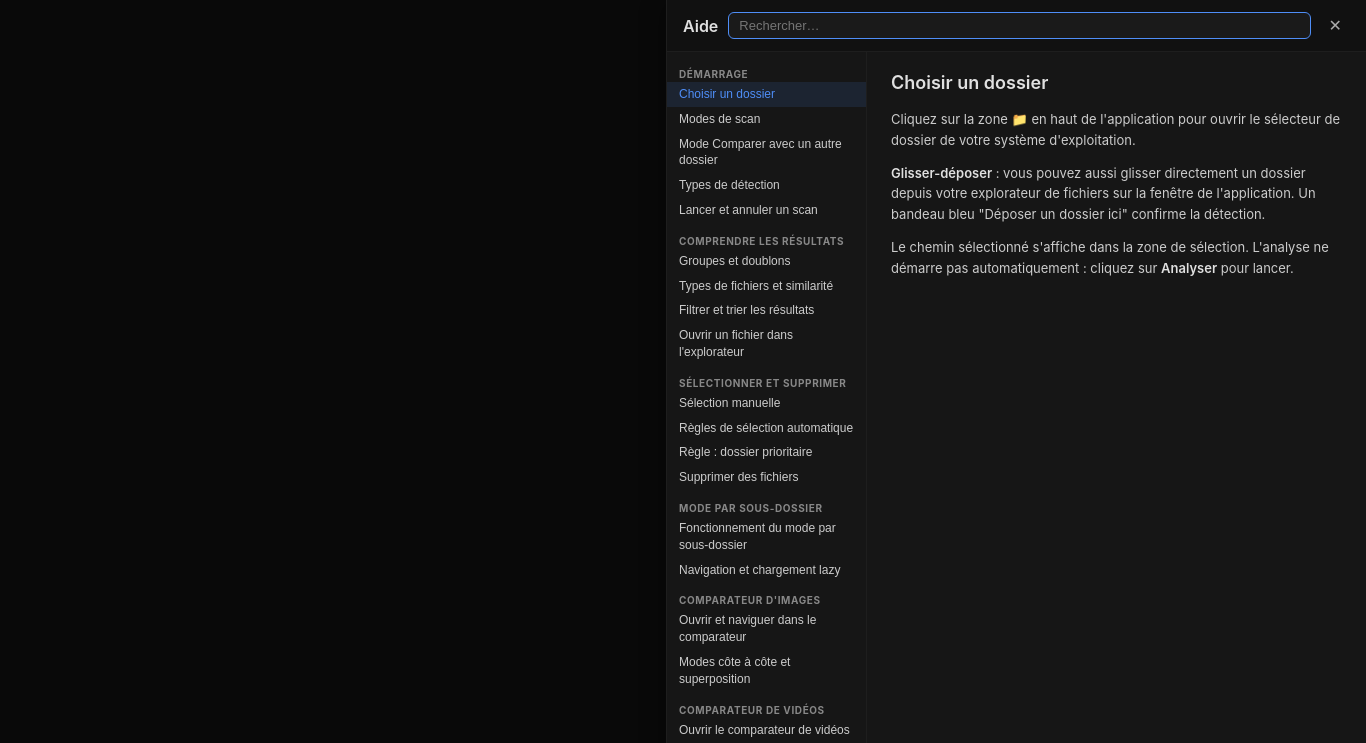
Test: HelpPanel › la recherche filtre les articles
Type "ignore" into the search field with test id "help-search" at point(1019, 26), box x1=728 y1=12 x2=1311 y2=39
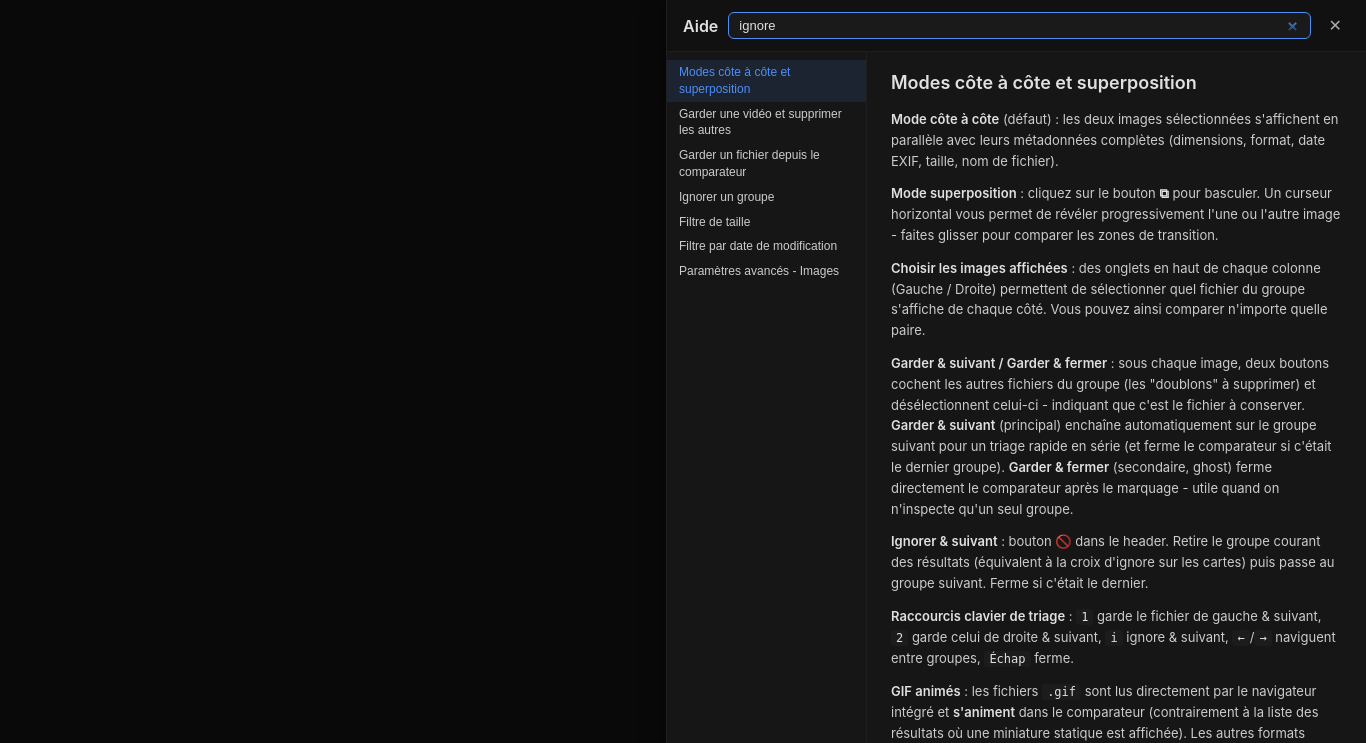
Check: the button "Ignorer un groupe" is shown, box x1=667 y1=185 x2=866 y2=210
Check: the text "Démarrage" is gone
